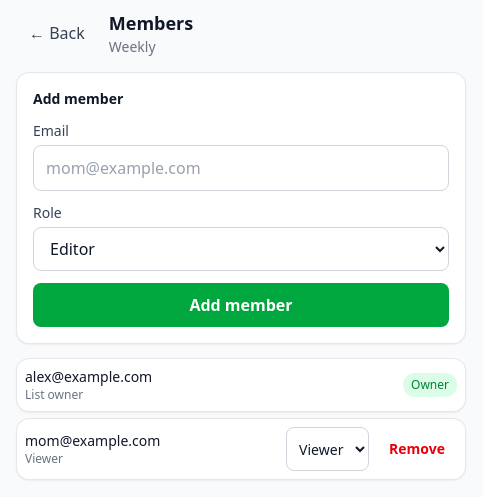
Test case: MembersPage (docs/TASKS.md → T20) › removes a member (DoD): DELETE, payload refetch, row disappears
Expected: the list item with test id "member-row-u2" is shown, [17,419,465,479]
Click the button with aria-label "Remove mom@example.com": click(417, 449) [377,427,457,471]
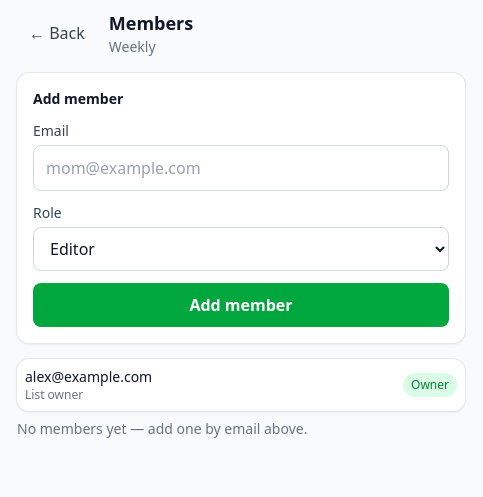
Result: the list item with test id "member-row-u2" is gone
Result: the text "No members yet — add one by email above." is shown at [17,419,307,438]
